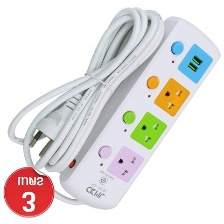three_eye_plug: (55, 13, 223, 212)
